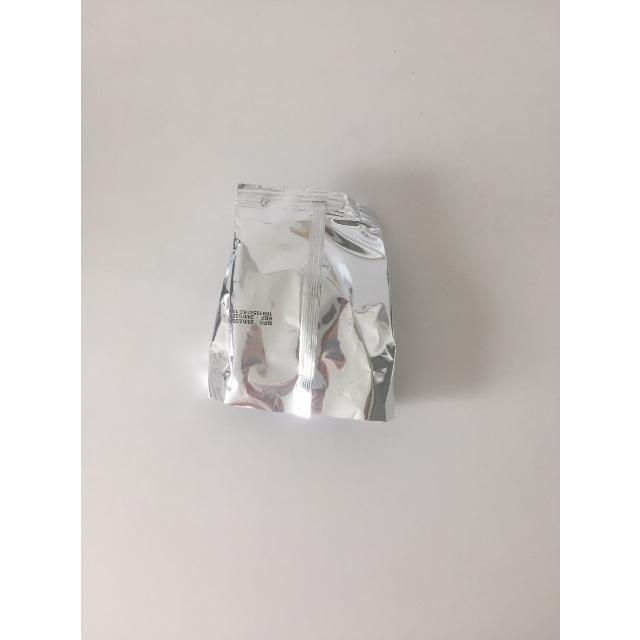Paquete de plastico: (209, 184, 395, 421)
